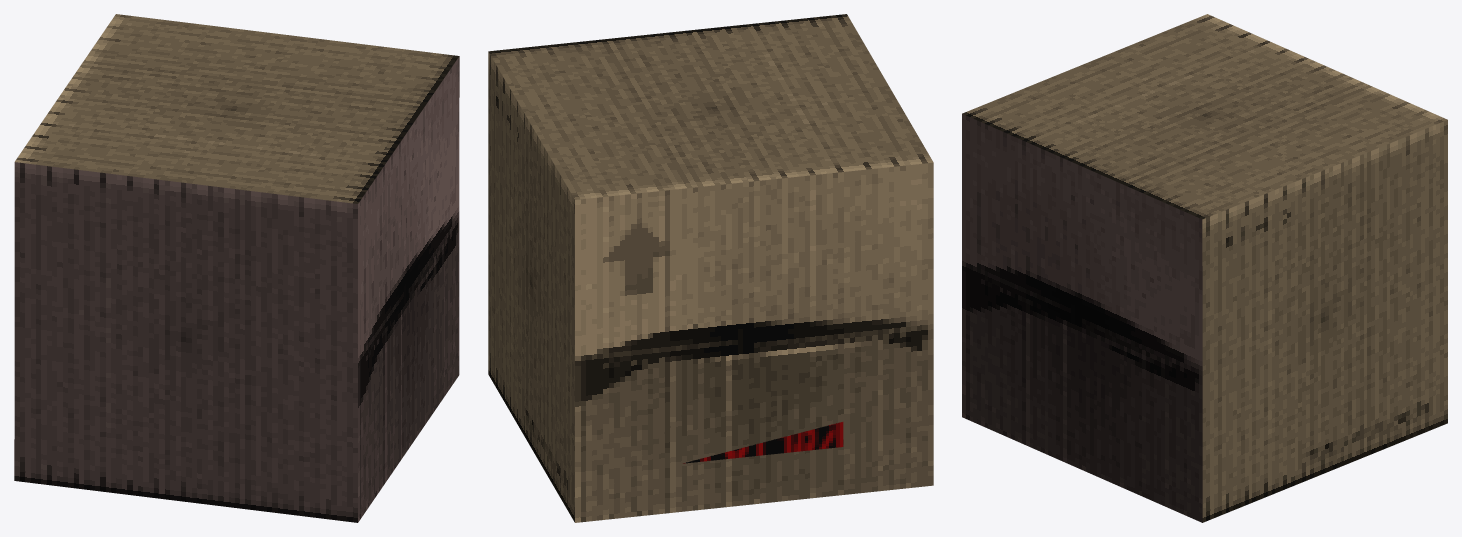
File: primary_121.glb
3 views of the same model, side by side, from view 1: azimuth 30°, elevation 25°; view 2: azimuth 150°, elevation 25°; view 3: azimuth 270°, elevation 25° (orthographic). The views are drawn at different scales.
Parts seen in each view (by area): view 1: Object; view 2: Object; view 3: Object.
Part boxes in pixels (x1,y1,x2,y2): Object: (14, 14, 459, 522); Object: (488, 14, 933, 522); Object: (962, 14, 1447, 522).
Bounding box in the file's own units: 1.56 × 1.07 × 1.55.
Materials: 7 (7 with a texture image).
